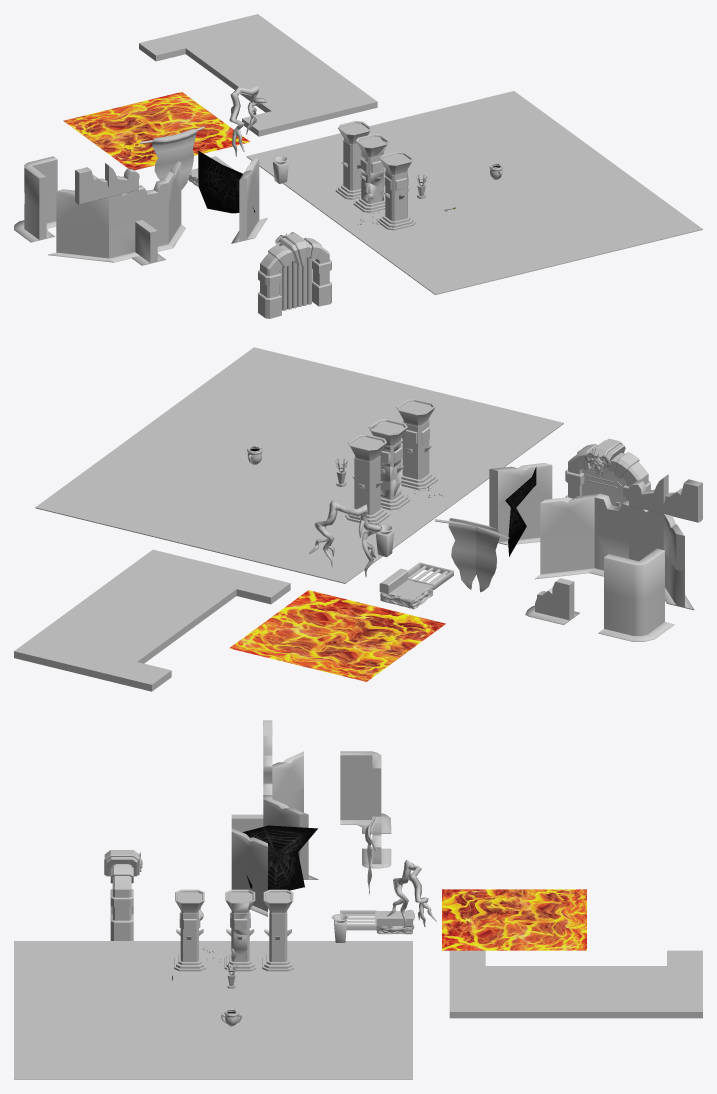
Rendered from DungeonPieces.FBX.
3 renders of one model, top to bottom at view 1: azimuth 30°, elevation 25°; view 2: azimuth 150°, elevation 25°; view 3: azimuth 270°, elevation 25°, orthographic. The views are drawn at different scales.
Parts seen in each view (by area): view 1: boss_floor, boss_floor_2, lava, door, Pillar2, env_spiderweb_1, wall1_base_diagonal_1, banner, Pillar, wall1_top_diagonal_1, wall1_top_corner_1, barrier (+13 smaller); view 2: boss_floor, boss_floor_2, lava, banner, wall1_base_corner_1, Pillar2, wall1_top_corner_1, door, Pillar, wall1_base_diagonal_2, wall1_top_diagonal_2, wall1_top_diagonal_3 (+14 smaller); view 3: boss_floor, boss_floor_2, lava, env_spiderweb_1, door, Pillar2, Pillar, wall1_top_corner_1, wall1_base_corner_1, wall1_top_diagonal_3, wall1_top_diagonal_1, roots (+4 smaller).
Part boxes in pixels (<box>): boss_floor: <box>246,91,702,294</box>; boss_floor_2: <box>139,14,377,136</box>; lava: <box>63,92,249,170</box>; door: <box>258,233,331,318</box>; Pillar2: <box>377,151,415,230</box>; env_spiderweb_1: <box>198,151,254,213</box>; wall1_base_diagonal_1: <box>48,222,113,262</box>; banner: <box>140,126,204,189</box>; Pillar: <box>335,121,371,199</box>; wall1_top_diagonal_1: <box>56,189,108,227</box>; wall1_top_corner_1: <box>24,156,57,209</box>; barrier: <box>279,257,311,310</box>; boss_floor: <box>35,347,563,583</box>; boss_floor_2: <box>14,549,290,691</box>; lava: <box>229,590,445,681</box>; banner: <box>434,518,509,592</box>; wall1_base_corner_1: <box>598,587,674,641</box>; Pillar2: <box>396,398,437,489</box>; wall1_top_corner_1: <box>604,548,664,600</box>; door: <box>565,438,650,500</box>; Pillar: <box>345,434,389,524</box>; wall1_base_diagonal_2: <box>534,533,594,579</box>; wall1_top_diagonal_2: <box>540,493,598,538</box>; wall1_top_diagonal_3: <box>489,463,552,506</box>; boss_floor: <box>14,941,412,1079</box>; boss_floor_2: <box>449,950,702,1018</box>; lava: <box>442,889,586,950</box>; env_spiderweb_1: <box>242,825,317,890</box>; door: <box>104,850,139,940</box>; Pillar2: <box>174,889,205,971</box>; Pillar: <box>262,889,294,971</box>; wall1_top_corner_1: <box>340,751,381,801</box>; wall1_base_corner_1: <box>340,787,391,833</box>; wall1_top_diagonal_3: <box>231,828,267,879</box>; wall1_top_diagonal_1: <box>272,751,303,799</box>; roots: <box>387,860,436,927</box>.
Bounding box in the file's own units: 6961 × 1567 × 7599.
